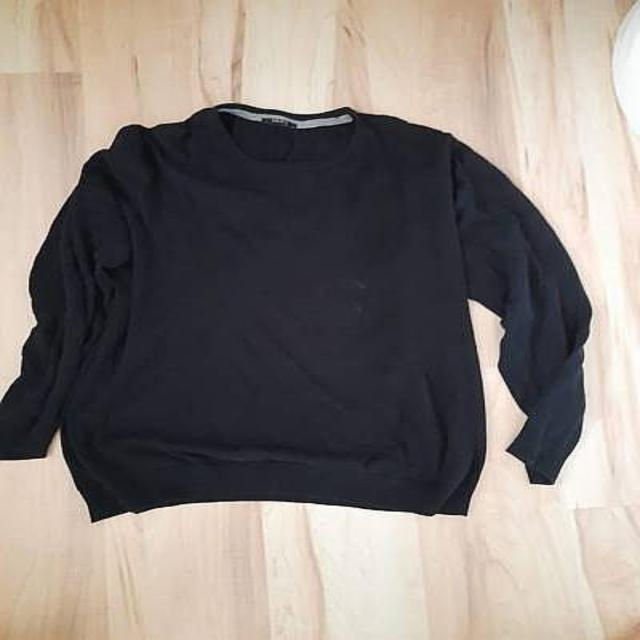SHIRT: (9, 97, 596, 534)
